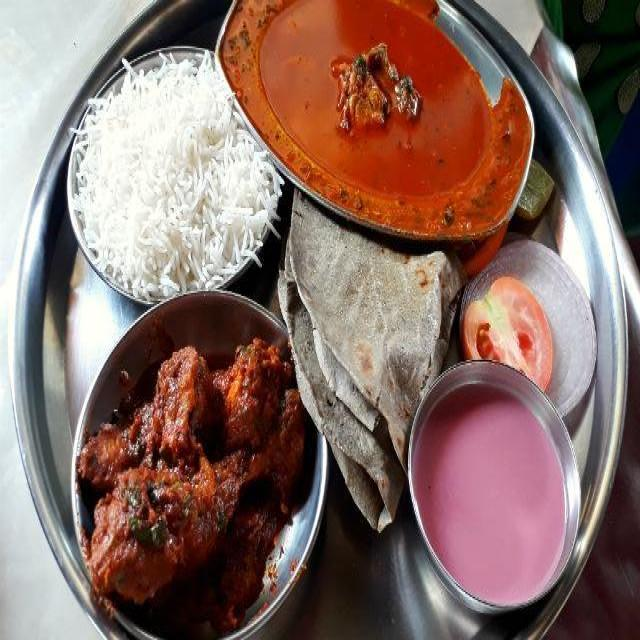non veg meals: (50, 0, 615, 640)
